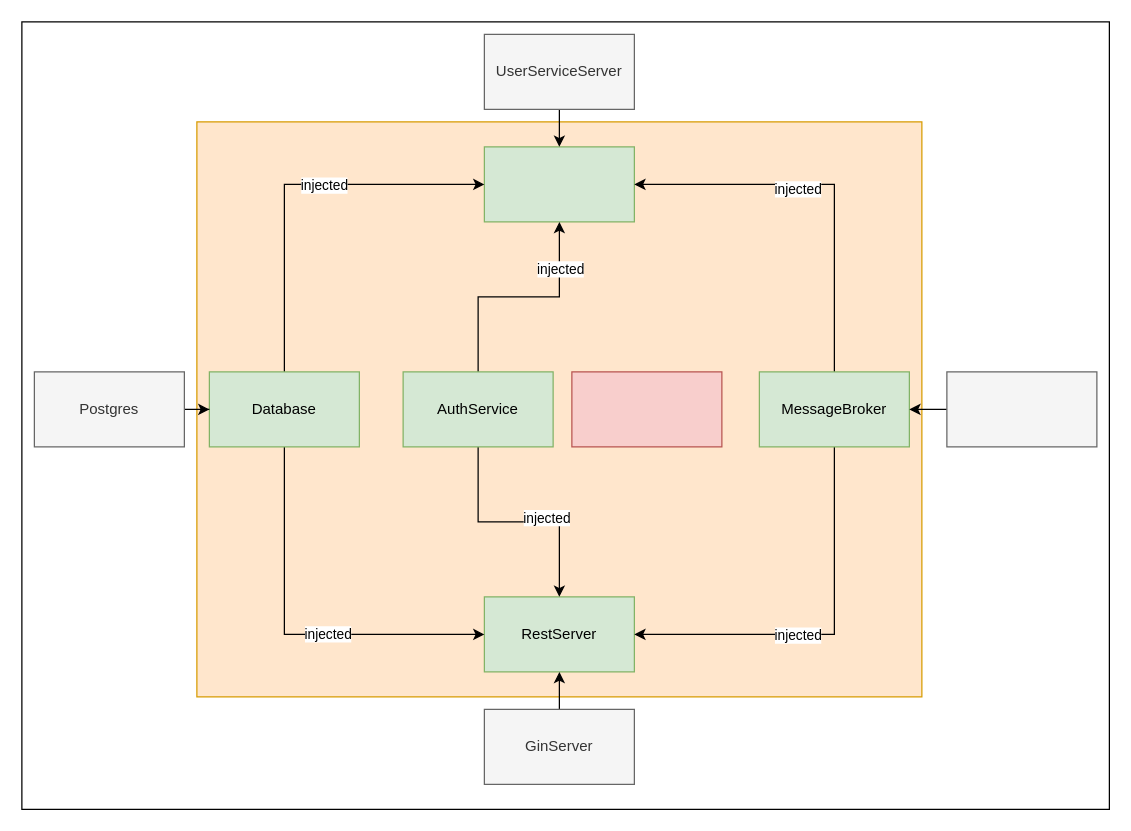
Image size: 1131x831. Some labels were removed from this diagram. The centre of each missing label's shape, as x and y in pixels:
"GRPCServer" goes at [558,184].
"Model: User" goes at [646,409].
"RabbitMQ" goes at [1021,409].
